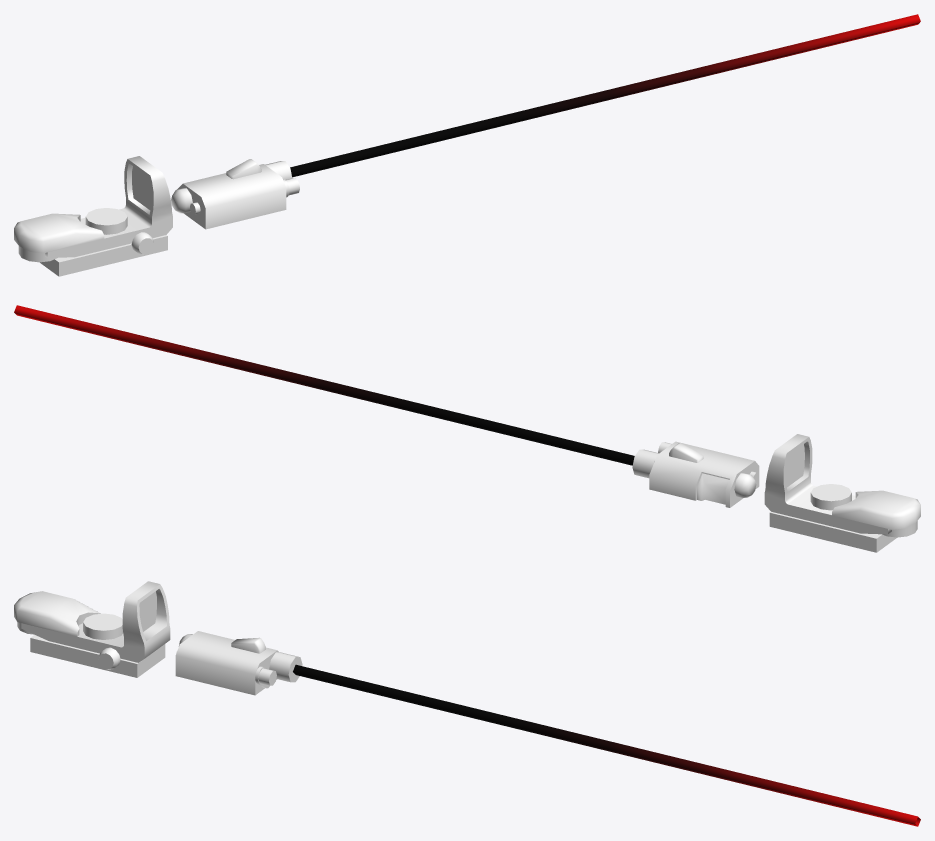
Rendered from SM_LWBeamSMG_OpticB.fbx.
3 renders of one model, top to bottom at view 1: azimuth 30°, elevation 25°; view 2: azimuth 150°, elevation 25°; view 3: azimuth 330°, elevation 25°, orthographic.
Visible parts, largest first — view 1: SM_BeamAssaultRifle_OpticB.001; view 2: SM_BeamAssaultRifle_OpticB.001; view 3: SM_BeamAssaultRifle_OpticB.001.
Part boxes in pixels (x1,y1,x2,y2): SM_BeamAssaultRifle_OpticB.001: [14, 14, 920, 276]; SM_BeamAssaultRifle_OpticB.001: [14, 305, 920, 552]; SM_BeamAssaultRifle_OpticB.001: [14, 581, 920, 826].
Bounding box in the file's own units: 52.39 × 3.66 × 4.21.
